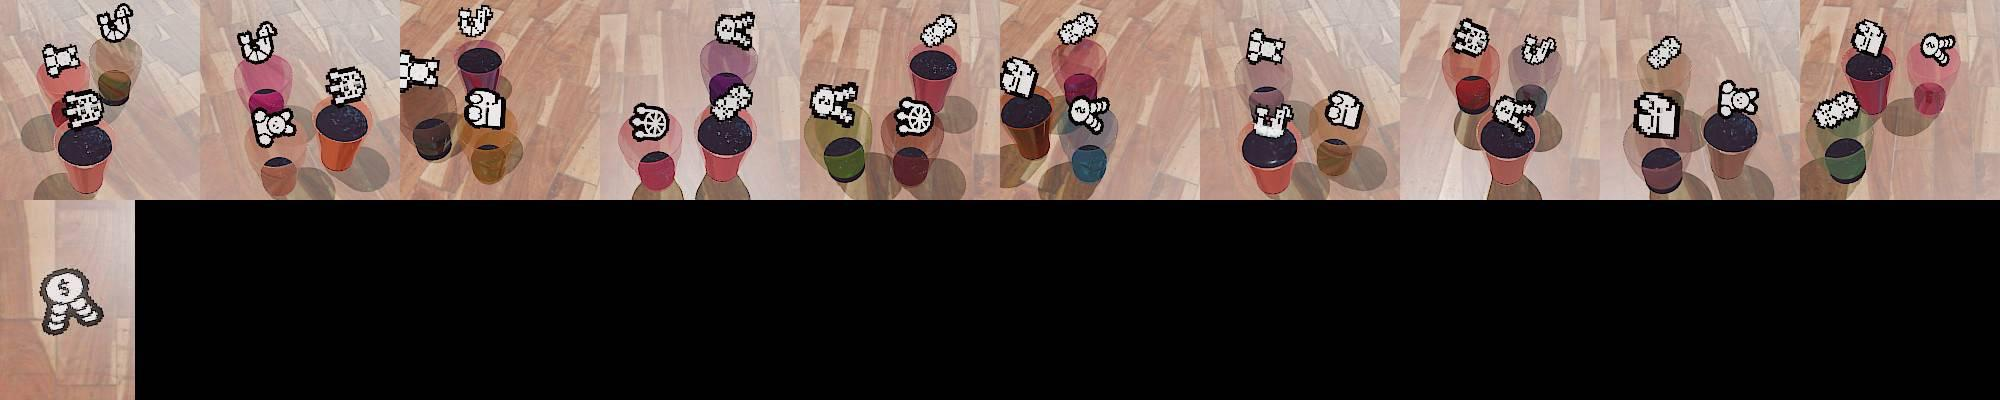icon: (37, 266, 103, 335), (1631, 92, 1679, 141), (811, 79, 860, 125), (1491, 93, 1538, 134), (463, 87, 506, 130), (236, 20, 278, 65), (1717, 78, 1760, 120), (1068, 93, 1111, 135), (629, 101, 672, 143), (1250, 99, 1293, 140), (324, 65, 369, 104), (61, 89, 103, 130), (713, 10, 756, 50), (1814, 90, 1860, 127), (894, 96, 935, 136), (1000, 56, 1040, 98), (1324, 88, 1364, 130), (1245, 27, 1287, 66), (1452, 18, 1490, 59), (96, 3, 134, 43), (1851, 18, 1888, 59), (1057, 10, 1099, 46), (920, 13, 958, 48), (457, 4, 494, 39), (1520, 33, 1557, 68), (256, 107, 296, 139), (1647, 36, 1682, 70), (1920, 33, 1955, 68), (714, 84, 753, 116), (406, 57, 440, 89), (45, 43, 79, 71)
